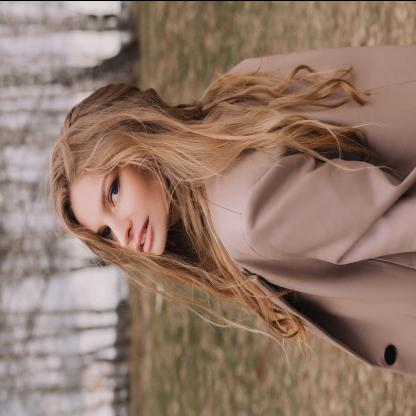Eye: (108, 174, 120, 208), (103, 225, 113, 239)
Mouth: (135, 214, 153, 253)
Nose: (109, 216, 133, 245)
